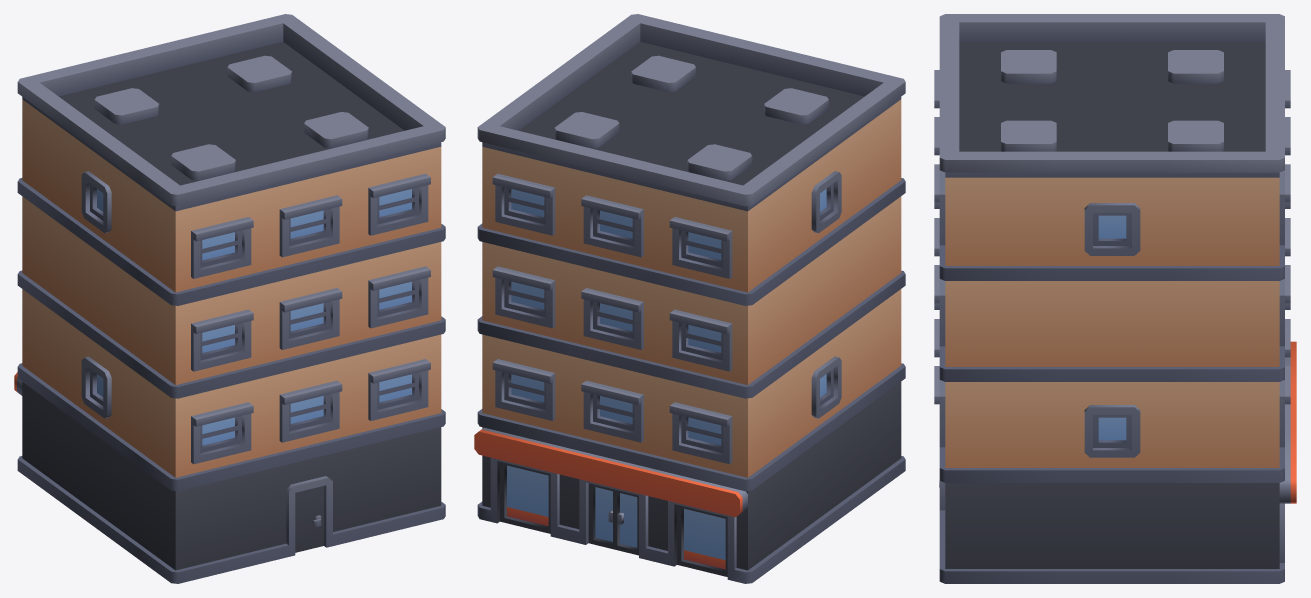
Rendered from building-i.glb.
3 views of the same model, side by side, from view 1: azimuth 30°, elevation 25°; view 2: azimuth 150°, elevation 25°; view 3: azimuth 270°, elevation 25° (orthographic). The views are drawn at different scales.
Parts seen in each view (by area): view 1: building-i; view 2: building-i; view 3: building-i.
Part boxes in pixels (bbox=[...]): building-i: bbox=[14, 14, 445, 583]; building-i: bbox=[474, 14, 905, 583]; building-i: bbox=[934, 14, 1296, 583].
Bounding box in the file's own units: 1.24 × 1.68 × 1.3.
1 material, 1 textured.
